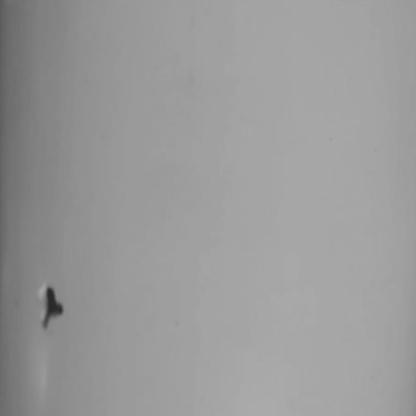kongdong: (24, 276, 70, 335)
